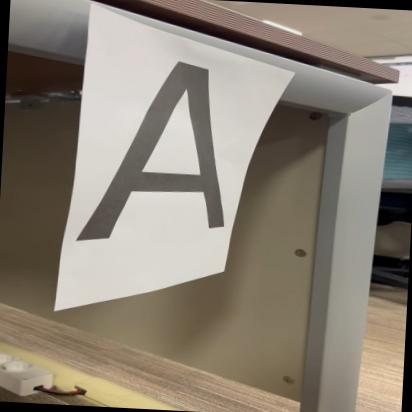seat: (68, 56, 246, 250)
